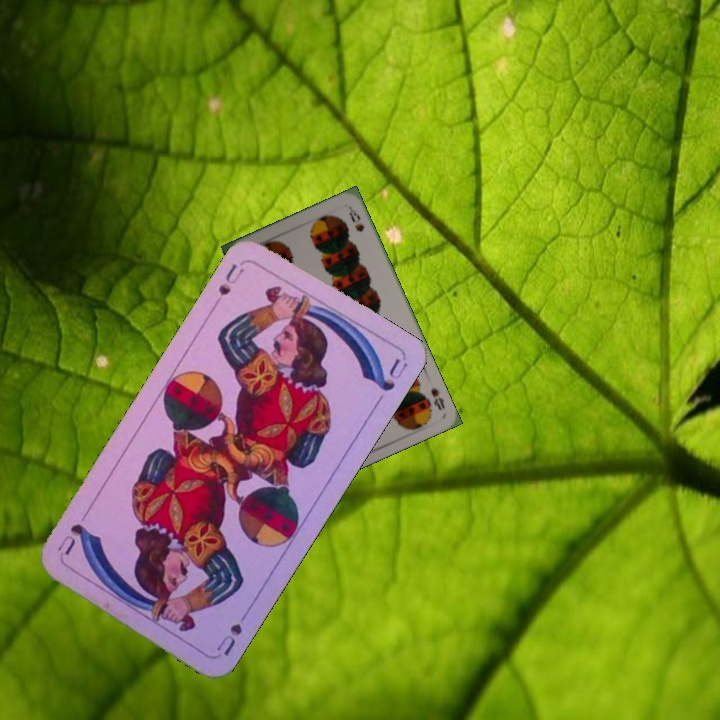S8: (427, 383, 448, 413)
SU: (212, 605, 253, 659), (214, 257, 247, 299)
